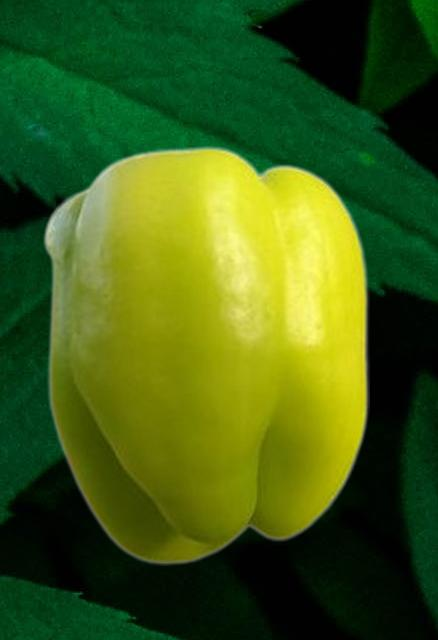bell_pepper: (42, 144, 368, 564)
